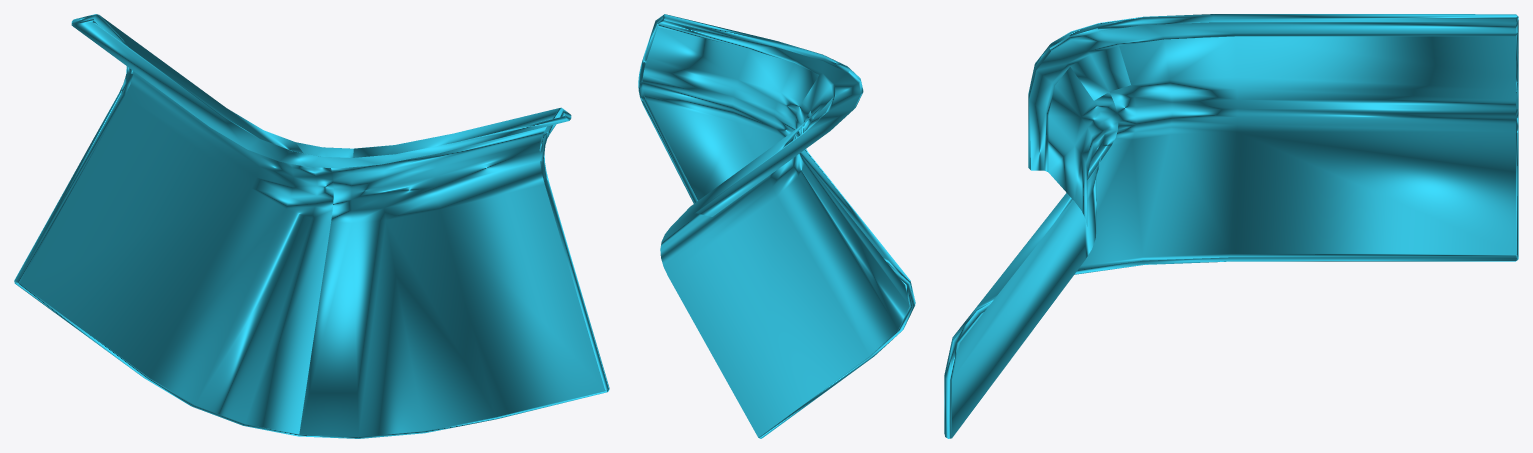
The model's file is greencircle_int_balcony_railings_glass_corner_b.glb.
3 views of the same model, side by side, from view 1: azimuth 30°, elevation 25°; view 2: azimuth 150°, elevation 25°; view 3: azimuth 270°, elevation 25° (orthographic). The views are drawn at different scales.
Bounding box in the file's own units: 1.48 × 1.05 × 1.98.
